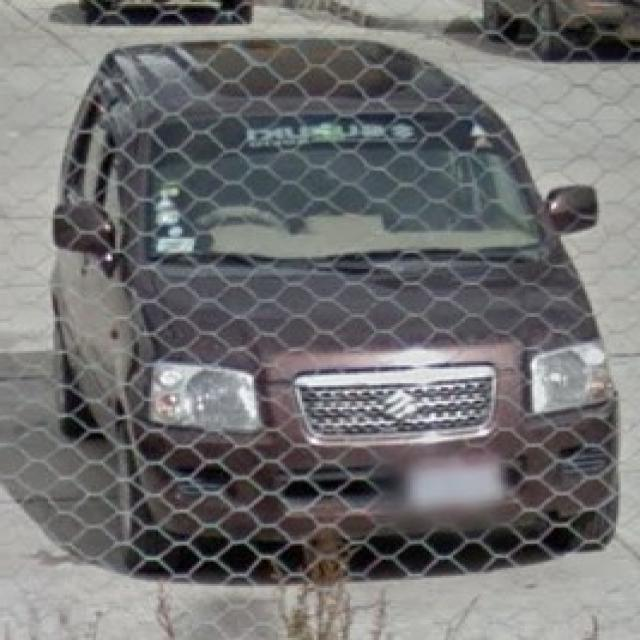car: (49, 48, 622, 567)
